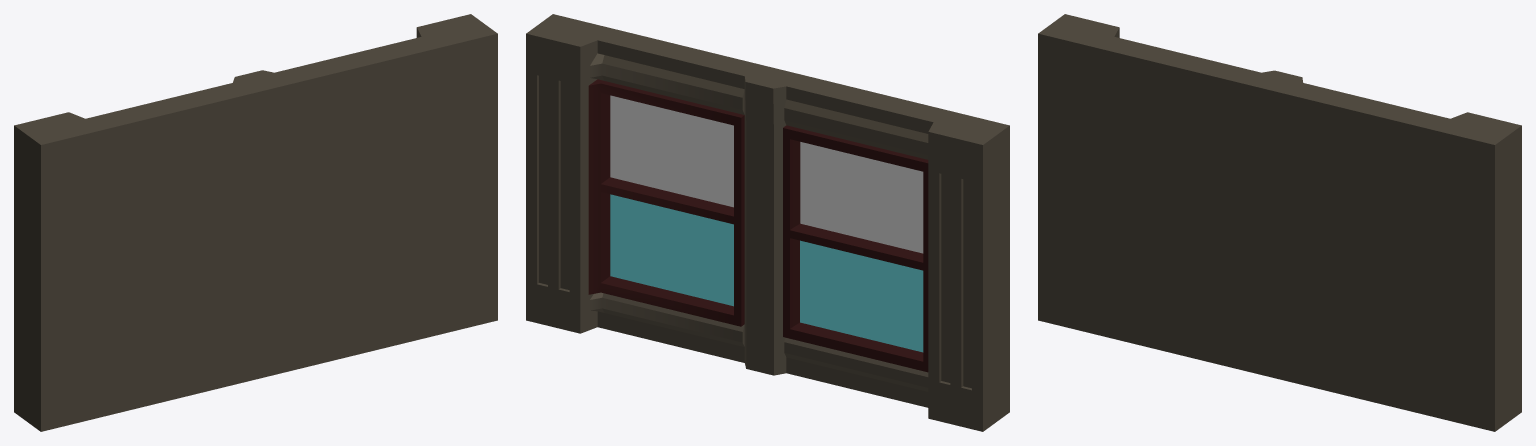
File: P_F_OLDType4.fbx
3 views of the same model, side by side, from view 1: azimuth 30°, elevation 25°; view 2: azimuth 150°, elevation 25°; view 3: azimuth 330°, elevation 25° (orthographic).
Parts seen in each view (by area): view 1: P_F_OLDType4; view 2: P_F_OLDType4; view 3: P_F_OLDType4.
Boxes of the visible parts, box(x1,y1,x2,y2) form: P_F_OLDType4: box(14, 14, 497, 431); P_F_OLDType4: box(526, 14, 1009, 431); P_F_OLDType4: box(1038, 14, 1521, 431).
Bounding box in the file's own units: 500 × 300 × 50.86.
